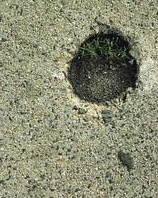Spalling: (67, 31, 140, 104)
